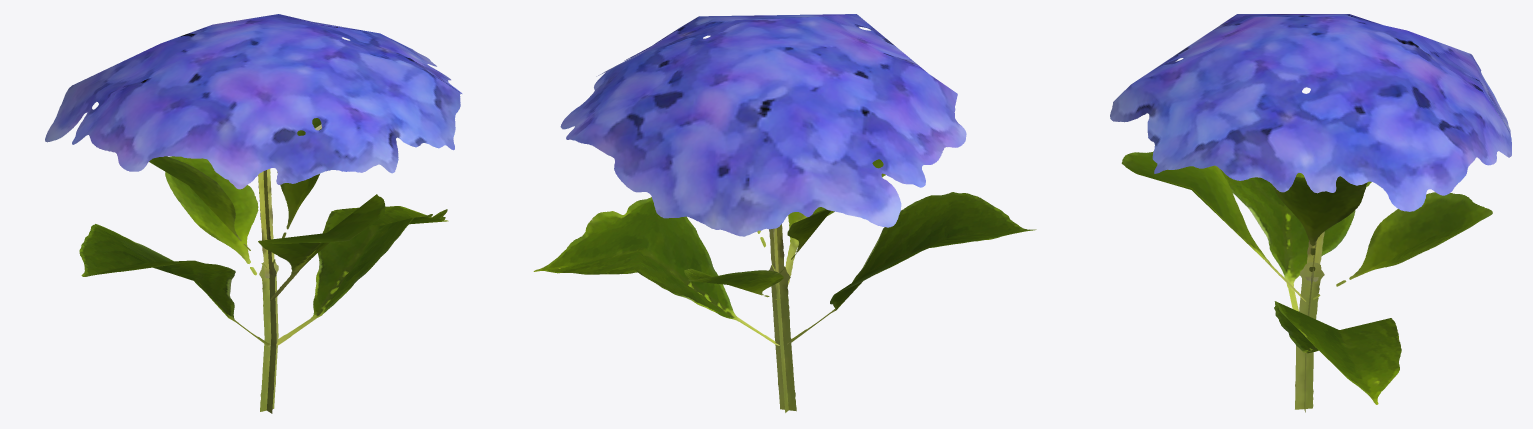
File: fleur_4_lod.fbx
3 views of the same model, side by side, from view 1: azimuth 30°, elevation 25°; view 2: azimuth 150°, elevation 25°; view 3: azimuth 270°, elevation 25° (orthographic). The views are drawn at different scales.
Parts seen in each view (by area): view 1: _1krn_Var10_LOD4; view 2: _1krn_Var10_LOD4; view 3: _1krn_Var10_LOD4.
Boxes of the visible parts, x1,y1,x2,y2 form: _1krn_Var10_LOD4: (45,14,462,413); _1krn_Var10_LOD4: (533,14,1036,412); _1krn_Var10_LOD4: (1110,14,1511,412).
Size of the model in its own units: 30.78 by 24.04 by 25.84.
